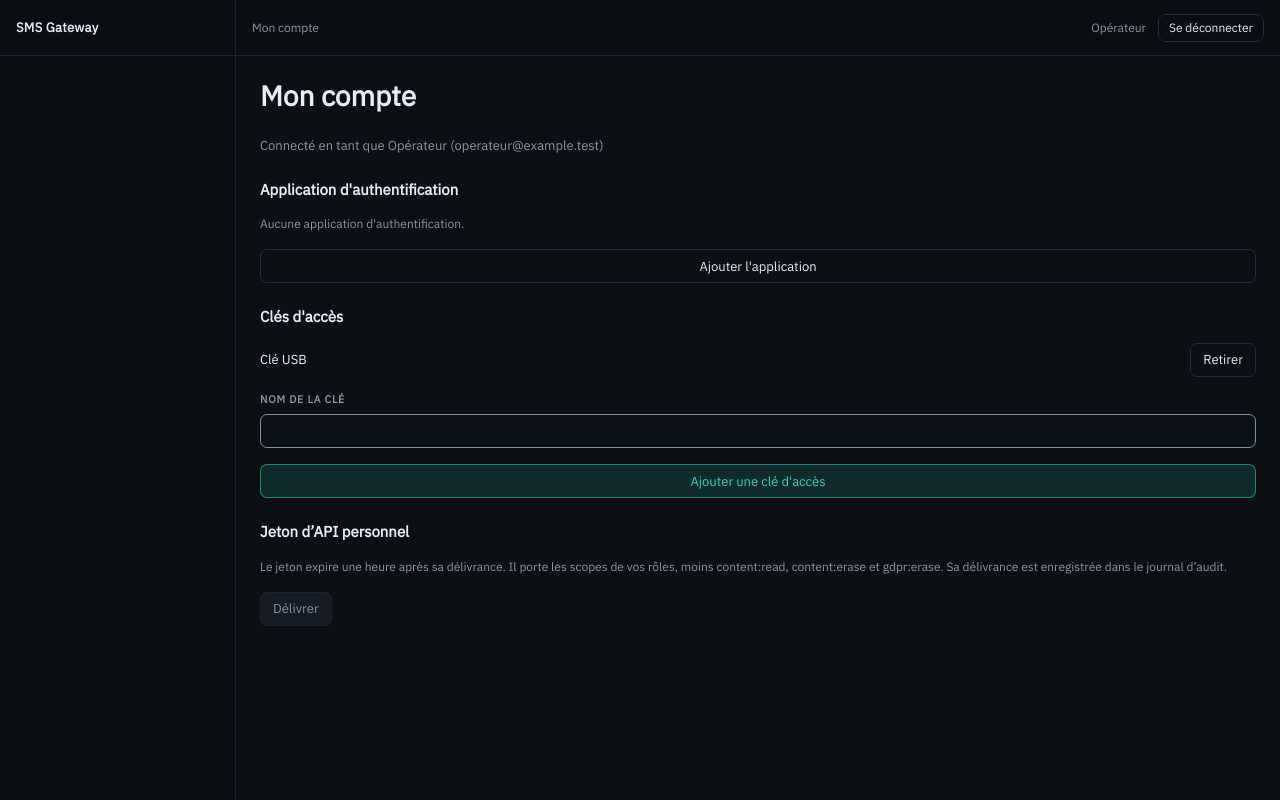
Test: removing the last factor is refused and told
The width and height of the screenshot is (1280, 800).
Click the button with aria-label "Retirer Clé USB".
click(1223, 360)  # box [1190, 343, 1256, 377]
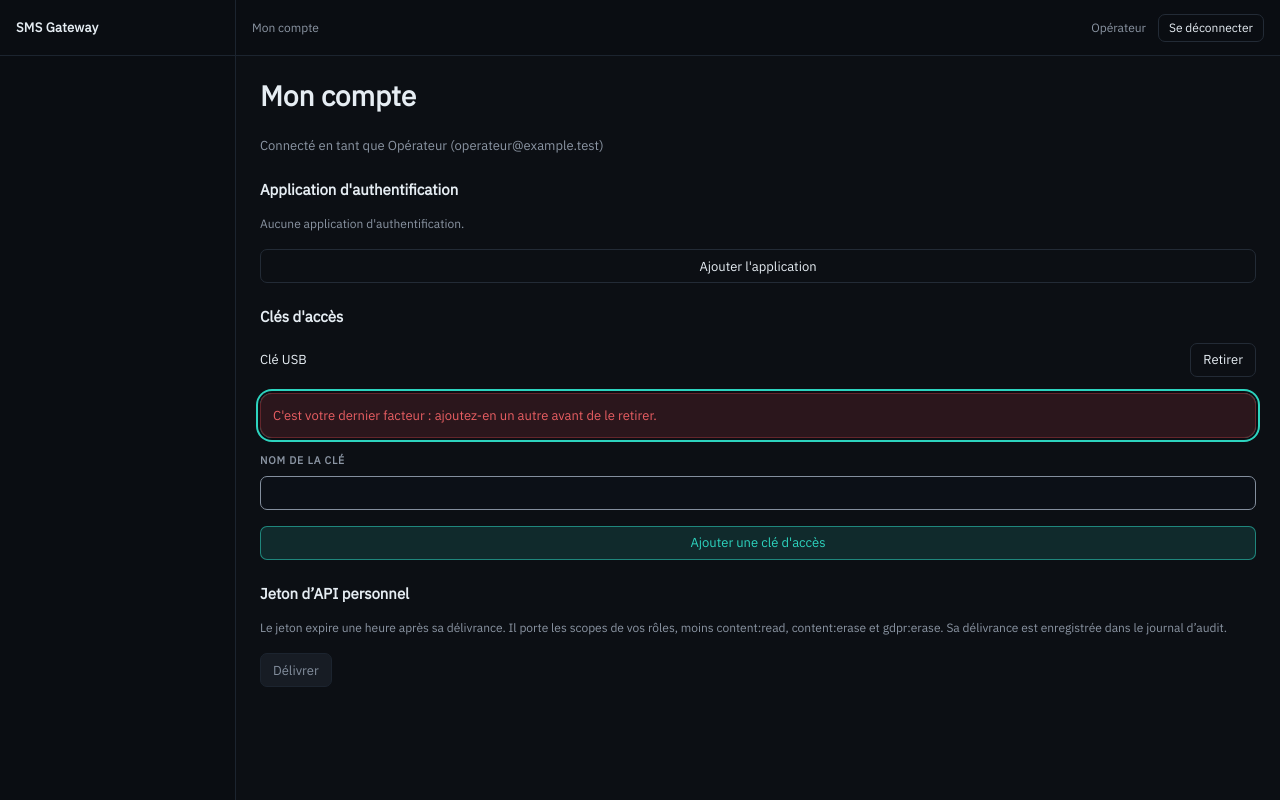
Expected: the text "Clé USB" is shown, [260, 350, 307, 369]
Now the message reads "C'est votre dernier facteur : ajoutez-en un autre avant de le retirer.", box [273, 407, 657, 424]
